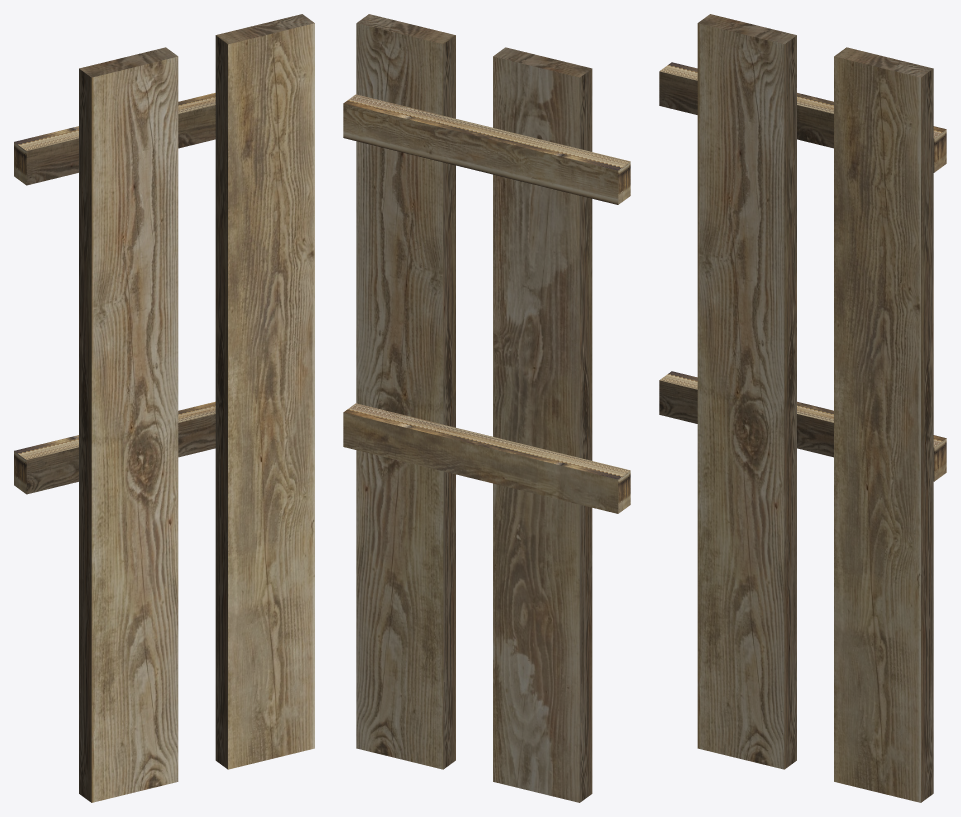
Rendered from fence.fbx.
3 views of the same model, side by side, from view 1: azimuth 30°, elevation 25°; view 2: azimuth 150°, elevation 25°; view 3: azimuth 330°, elevation 25° (orthographic).
Parts seen in each view (by area): view 1: polySurface80; view 2: polySurface80; view 3: polySurface80.
Boxes of the visible parts, x1,y1,x2,y2 form: polySurface80: (14, 14, 314, 802); polySurface80: (343, 14, 630, 802); polySurface80: (659, 14, 946, 802).
Size of the model in its own units: 2.27 by 5.73 by 0.3707.
Materials: 1 (1 with a texture image).
